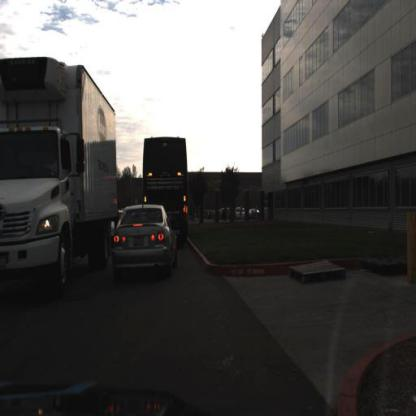car: (108, 204, 174, 273), (233, 203, 249, 221)
truck: (2, 53, 120, 289), (143, 134, 187, 235)
